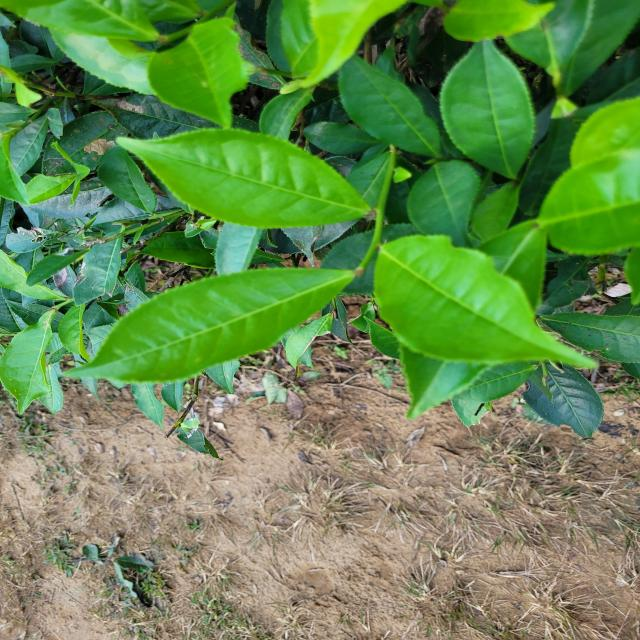Catagory A(1-2 days): (42, 232, 356, 394)
